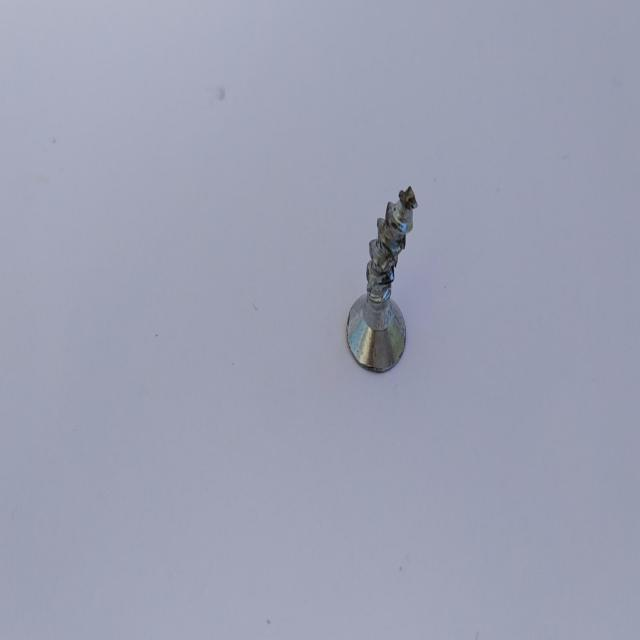Screw: (347, 185, 418, 371)
